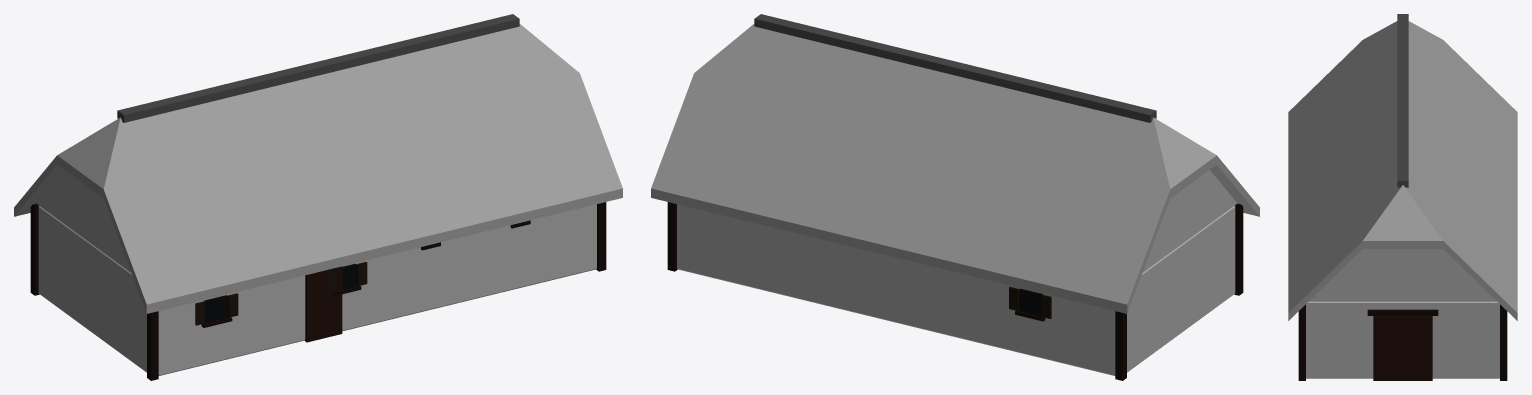
The model's file is home_long_j.fbx.
3 renders of one model, left to right at view 1: azimuth 30°, elevation 25°; view 2: azimuth 150°, elevation 25°; view 3: azimuth 270°, elevation 25°, orthographic. The views are drawn at different scales.
Parts seen in each view (by area): view 1: home_long_j; view 2: home_long_j; view 3: home_long_j.
Boxes of the visible parts, <box> form: home_long_j: <box>14,14,622,380</box>; home_long_j: <box>651,14,1259,380</box>; home_long_j: <box>1288,14,1517,380</box>.
Bounding box in the file's own units: 12.76 × 5.55 × 6.16.
